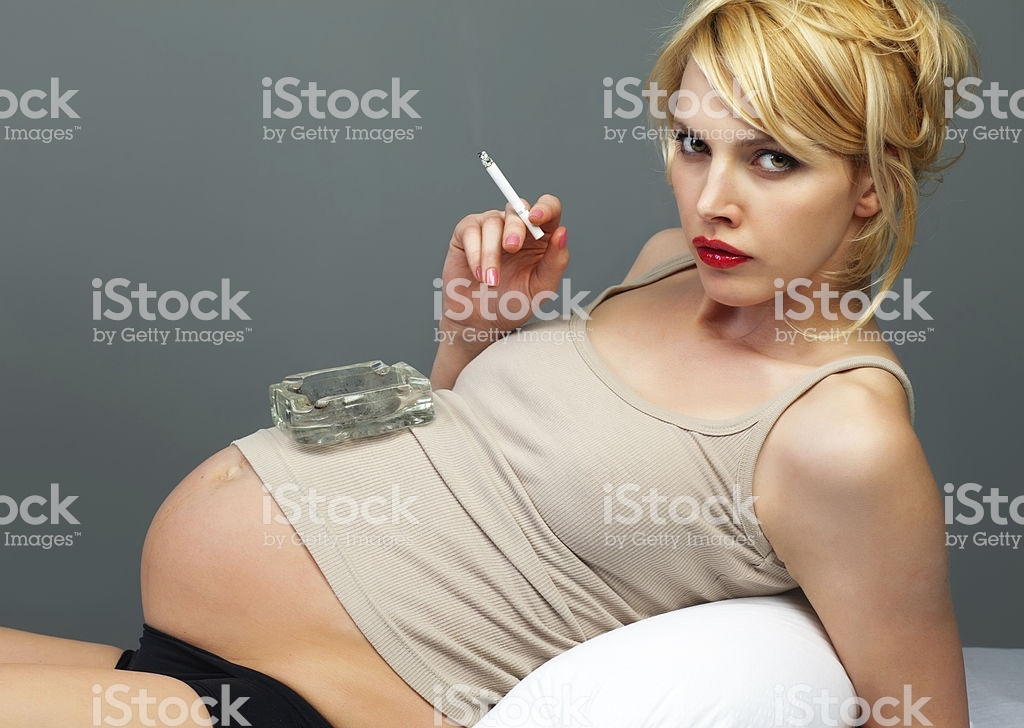sigaretta: (483, 150, 544, 245)
